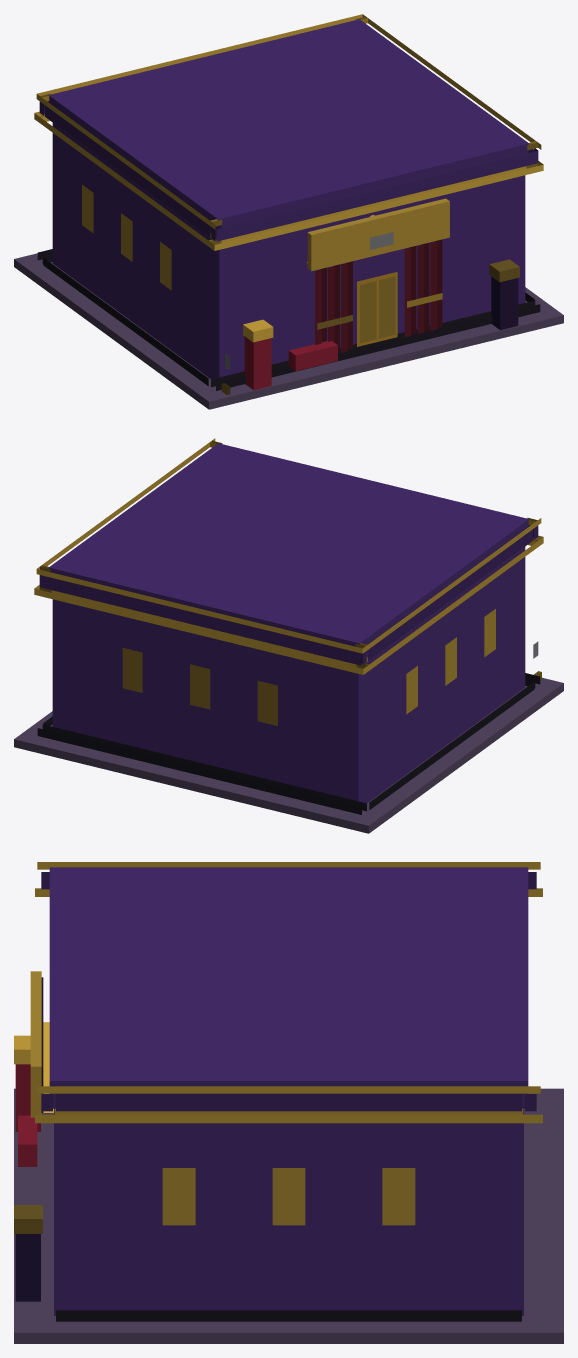
The model's file is AllSeeingEyeSil.fbx.
3 renders of one model, top to bottom at view 1: azimuth 30°, elevation 25°; view 2: azimuth 150°, elevation 25°; view 3: azimuth 270°, elevation 25°, orthographic. The views are drawn at different scales.
Visible parts, largest first — view 1: EY_S_All; view 2: EY_S_All; view 3: EY_S_All.
Boxes of the visible parts, x1,y1,x2,y2 form: EY_S_All: [14, 14, 563, 409]; EY_S_All: [14, 438, 563, 833]; EY_S_All: [14, 862, 563, 1343].
Bounding box in the file's own units: 42.04 × 19.9 × 40.04.
